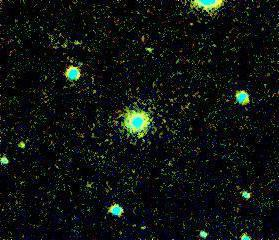star: (6, 130, 36, 160)
